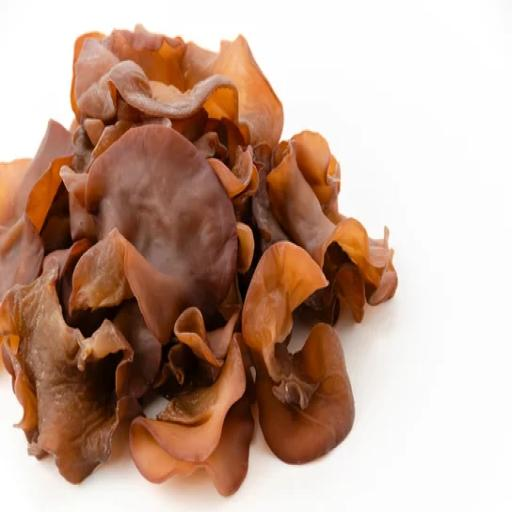Wood Ear Mushroom: (0, 17, 422, 512)
